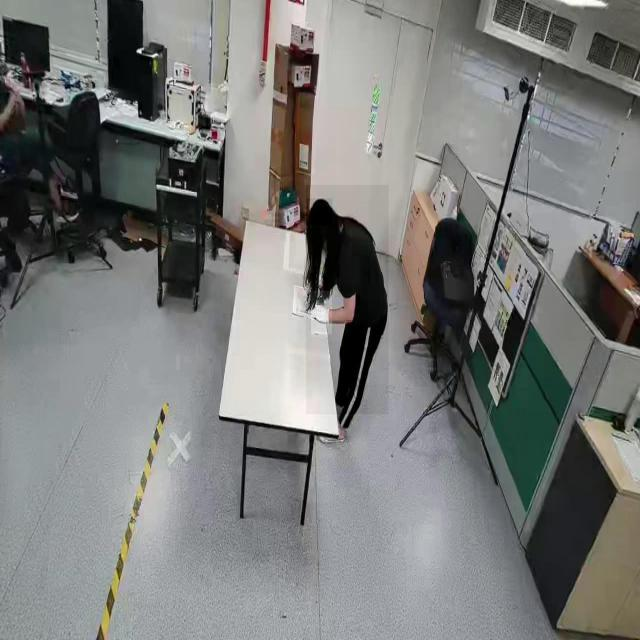hand_glove: (311, 291, 333, 335)
head_nohelmet: (307, 198, 333, 226)
person: (306, 185, 389, 415)
